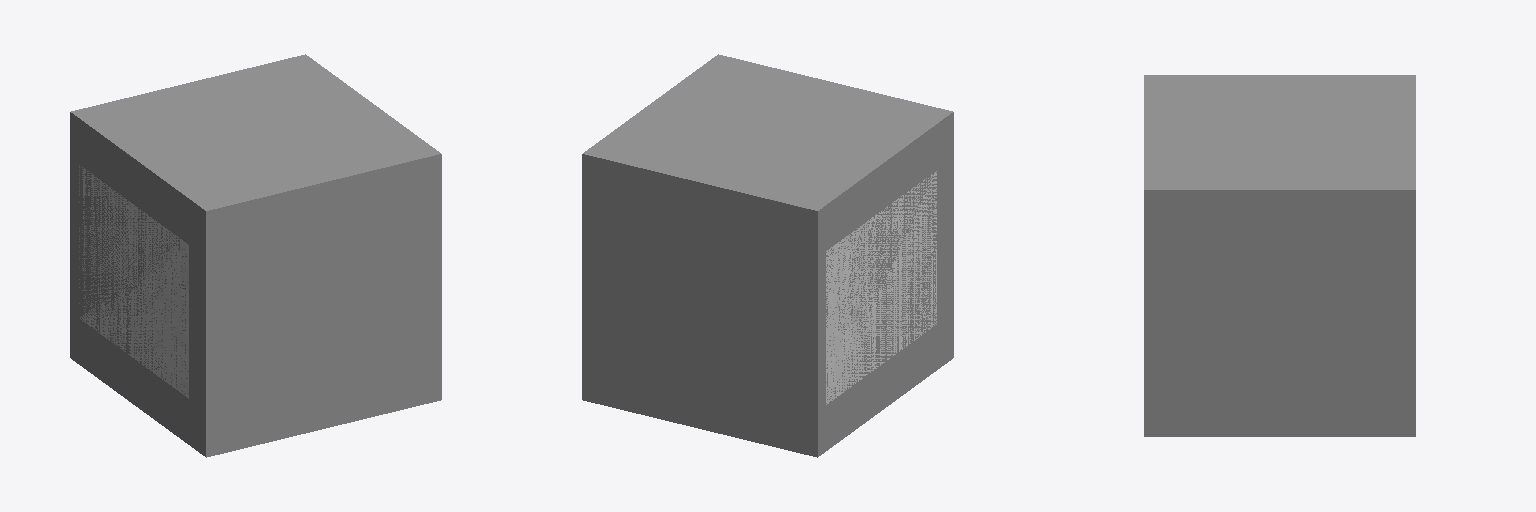
3 renders of one model, left to right at view 1: azimuth 30°, elevation 25°; view 2: azimuth 150°, elevation 25°; view 3: azimuth 270°, elevation 25°, orthographic.
Parts seen in each view (by area): view 1: Minecraft_Block_Cube, Minecraft_2_Edge_Connectivity_Cube.002, main; view 2: Minecraft_Block_Cube, Minecraft_2_Edge_Connectivity_Cube.002, main; view 3: Minecraft_Block_Cube, Minecraft_2_Edge_Connectivity_Cube.002.
Boxes of the visible parts, x1=… form: Minecraft_Block_Cube: x1=71, y1=54, x2=441, y2=457; Minecraft_2_Edge_Connectivity_Cube.002: x1=70, y1=112, x2=255, y2=456; main: x1=79, y1=165, x2=188, y2=398; Minecraft_Block_Cube: x1=582, y1=54, x2=952, y2=457; Minecraft_2_Edge_Connectivity_Cube.002: x1=768, y1=112, x2=953, y2=456; main: x1=826, y1=171, x2=936, y2=404; Minecraft_Block_Cube: x1=1144, y1=75, x2=1415, y2=436; Minecraft_2_Edge_Connectivity_Cube.002: x1=1146, y1=75, x2=1414, y2=132.
Bounding box in the file's own units: 1 × 1 × 1.
2 materials, 1 textured.